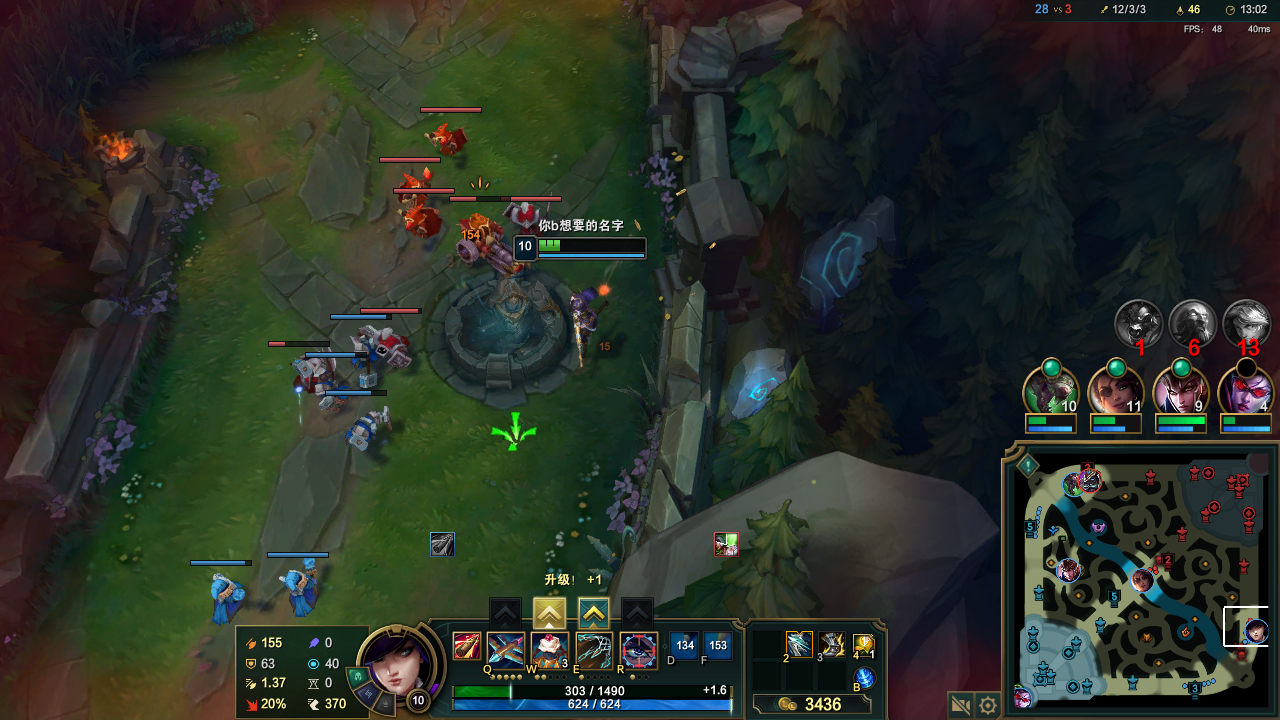DFXB: (456, 211, 504, 271), (406, 202, 456, 244), (422, 124, 472, 159), (373, 318, 404, 367), (503, 194, 542, 231), (292, 360, 325, 387), (403, 177, 429, 194)
Shenji: (582, 601, 601, 626)
Tuijianshengji: (540, 600, 563, 627)
WFXB: (341, 402, 396, 447), (280, 563, 328, 607), (209, 569, 244, 618), (348, 334, 384, 373), (315, 367, 345, 400)
